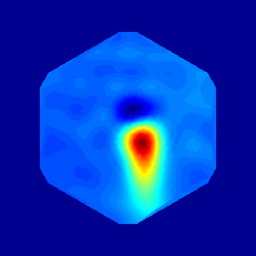ship: (127, 103, 148, 127)
wave: (128, 120, 150, 178)
